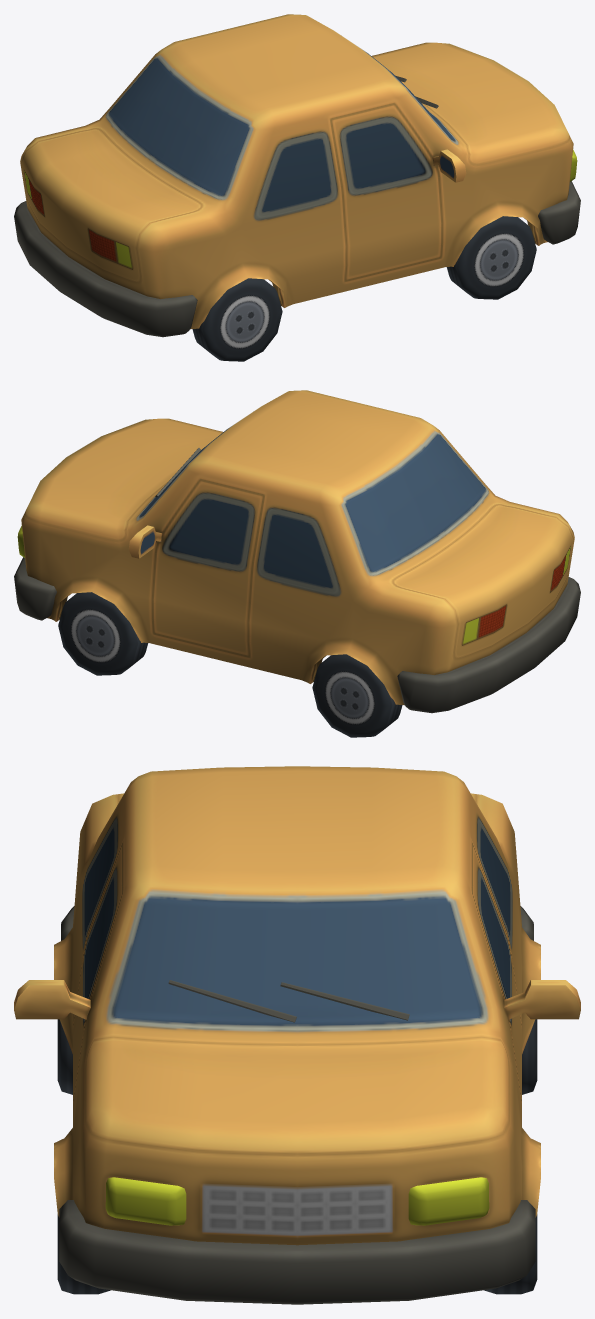
Rendered from Mesh_Item_03_Car_02.FBX.
3 renders of one model, top to bottom at view 1: azimuth 30°, elevation 25°; view 2: azimuth 150°, elevation 25°; view 3: azimuth 270°, elevation 25°, orthographic. The views are drawn at different scales.
Visible parts, largest first — view 1: Mesh_Item_03_Car_02; view 2: Mesh_Item_03_Car_02; view 3: Mesh_Item_03_Car_02.
Boxes of the visible parts, <box> form: Mesh_Item_03_Car_02: <box>14,14,580,361</box>; Mesh_Item_03_Car_02: <box>14,390,580,737</box>; Mesh_Item_03_Car_02: <box>14,766,580,1304</box>.
Bounding box in the file's own units: 3.82 × 1.67 × 2.42.
1 material, 1 textured.
